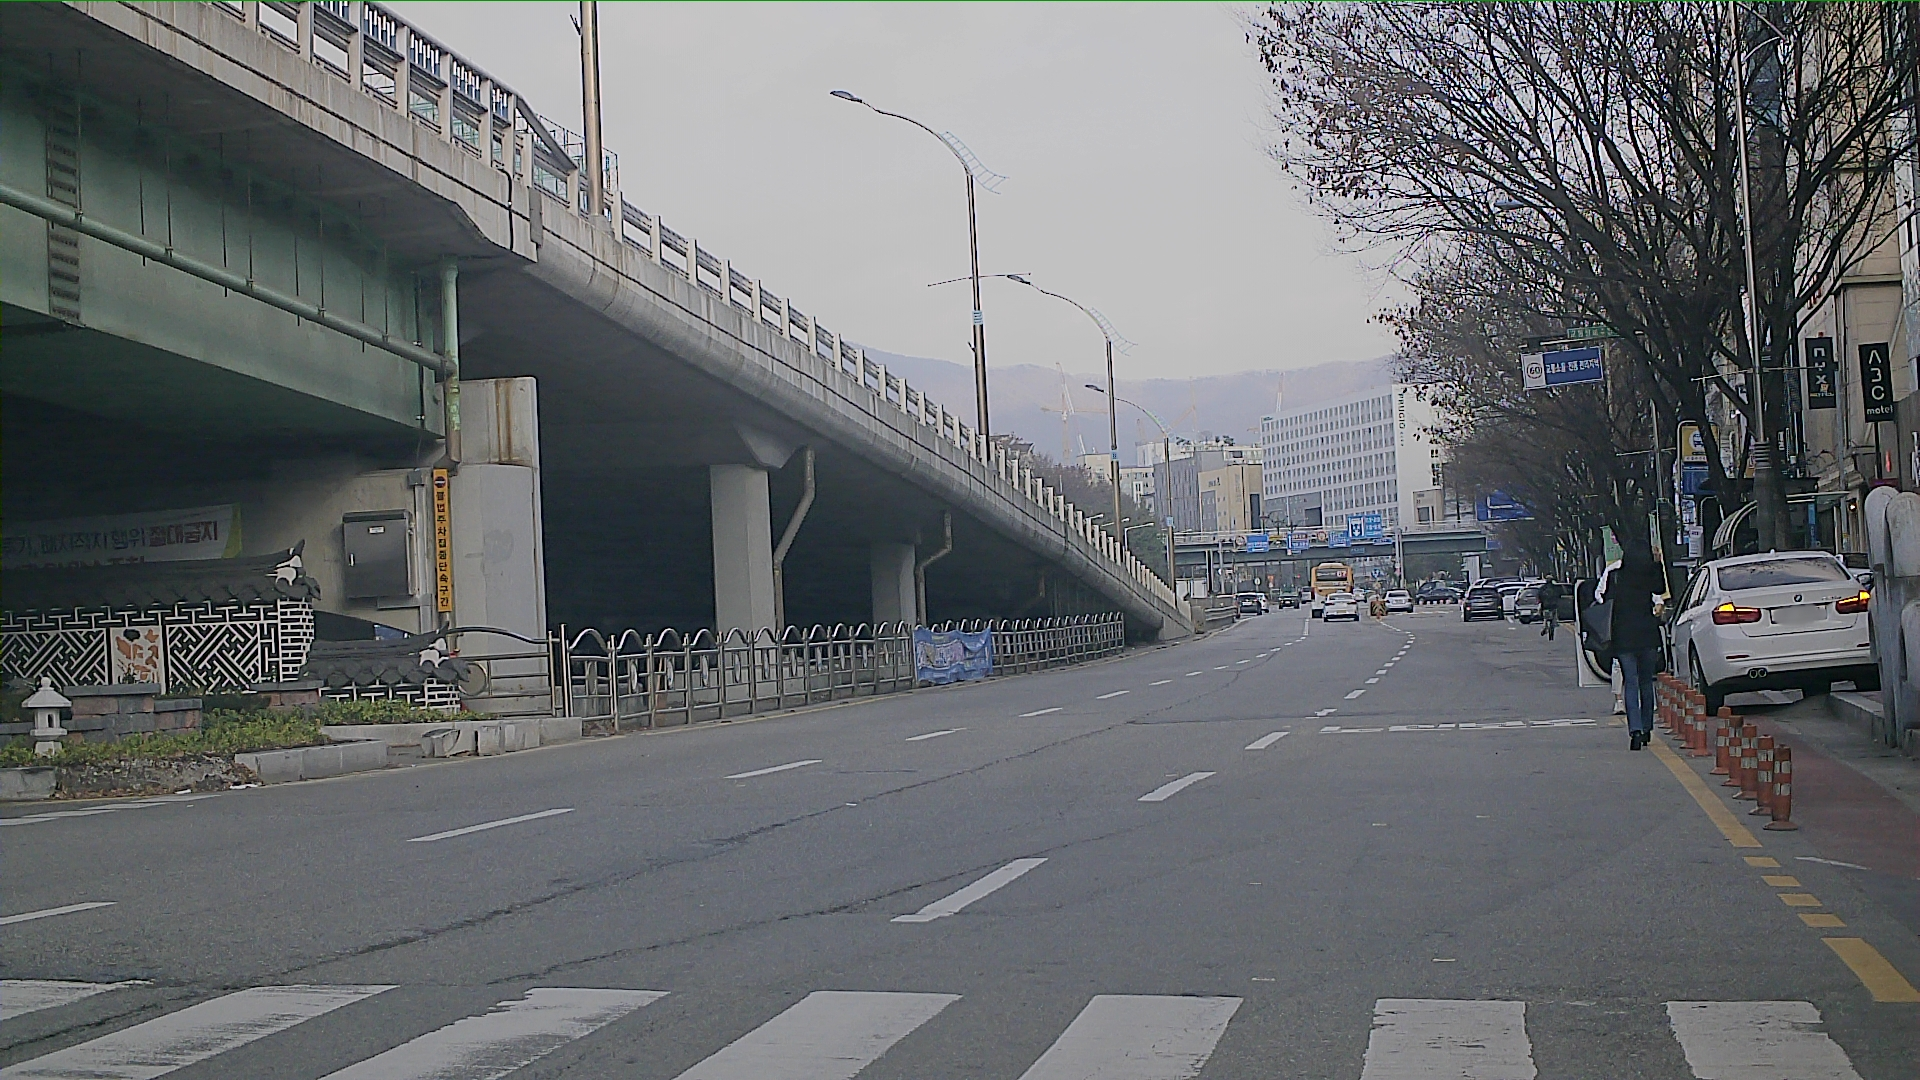trafficSignRTG: (1518, 344, 1605, 394)
